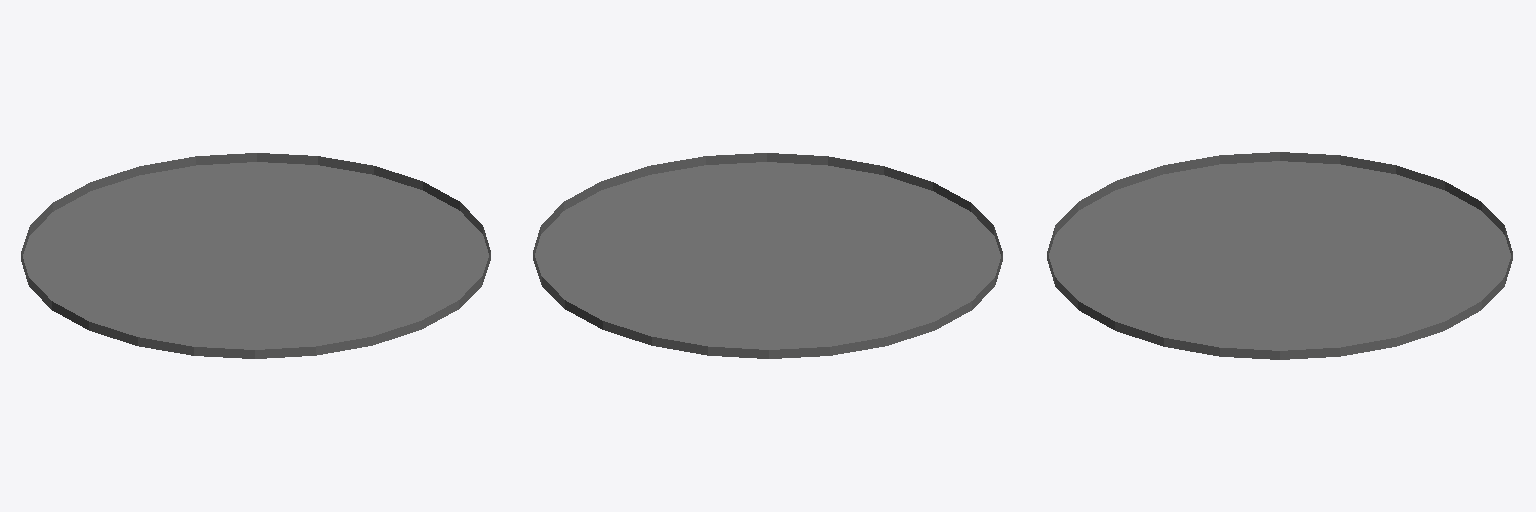
File: Floor_kamino.obj
3 views of the same model, side by side, from view 1: azimuth 30°, elevation 25°; view 2: azimuth 150°, elevation 25°; view 3: azimuth 270°, elevation 25° (orthographic).
Parts seen in each view (by area): view 1: Floor_kamino.obj; view 2: Floor_kamino.obj; view 3: Floor_kamino.obj.
Boxes of the visible parts, x1=… form: Floor_kamino.obj: x1=21, y1=153, x2=490, y2=358; Floor_kamino.obj: x1=533, y1=153, x2=1002, y2=358; Floor_kamino.obj: x1=1047, y1=152, x2=1512, y2=359.
Size of the model in its own units: 8500 by 182 by 8400.